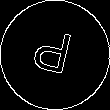P_S: (31, 26, 79, 84)
